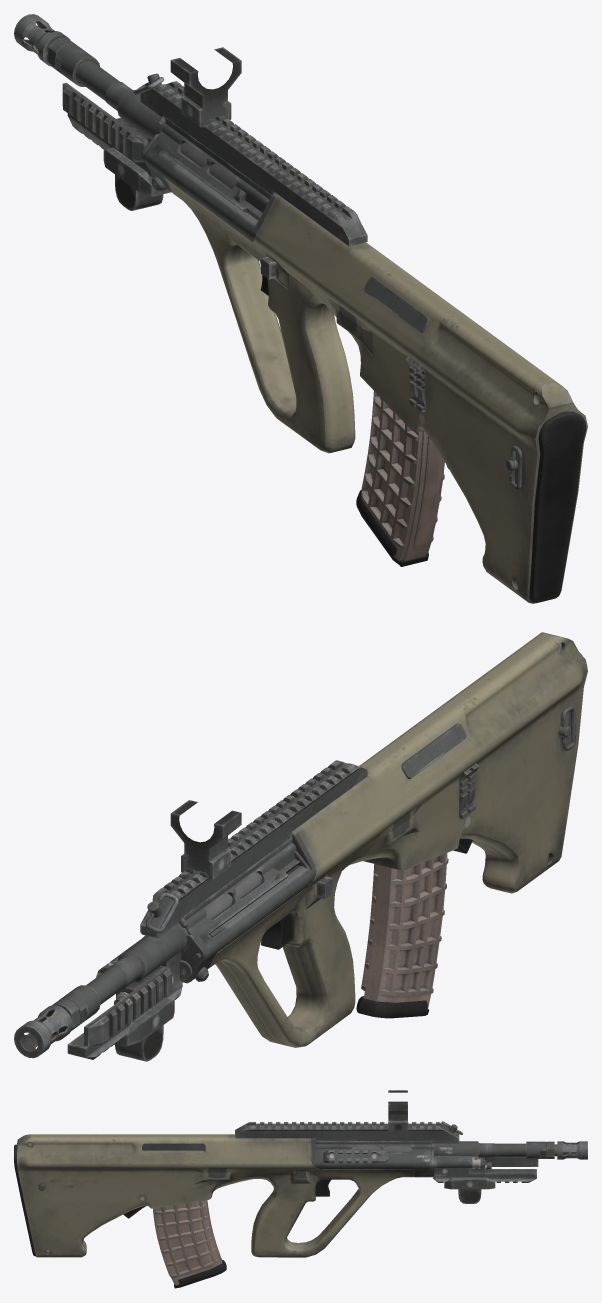
Rendered from aug.glb.
3 views of the same model, one above another, from view 1: azimuth 30°, elevation 25°; view 2: azimuth 150°, elevation 25°; view 3: azimuth 270°, elevation 25° (orthographic). The views are drawn at different scales.
Bounding box in the file's own units: 0.0596 × 0.2855 × 0.79.
1 material, 1 textured.
